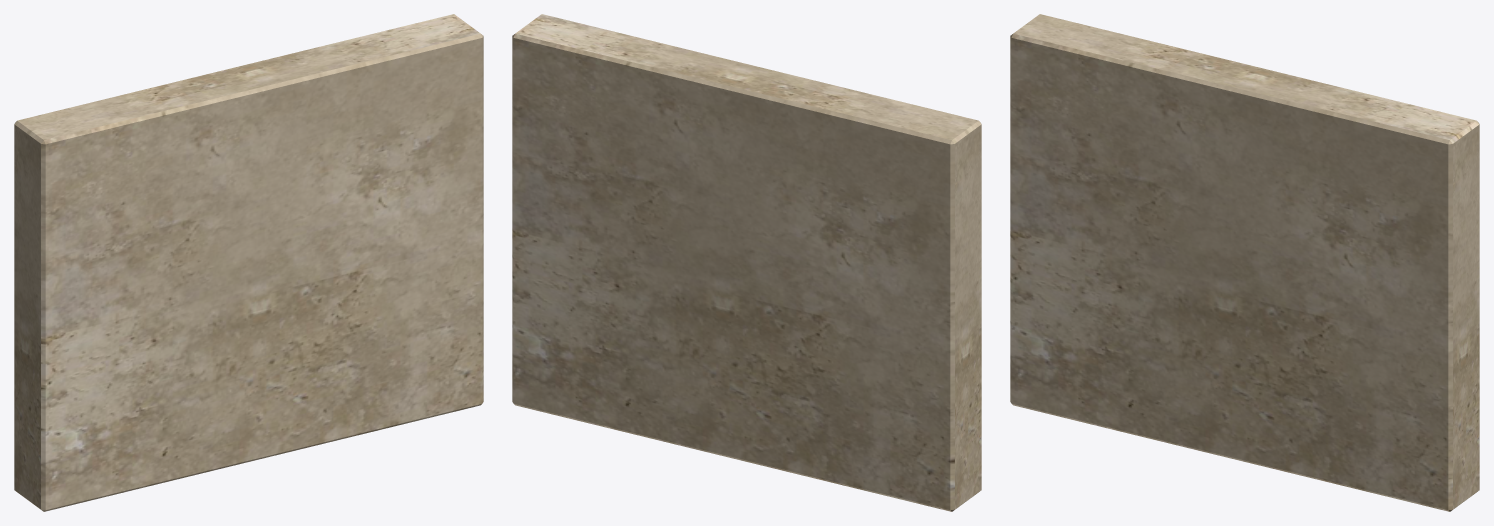
The model's file is thin_wall_small.FBX.
3 views of the same model, side by side, from view 1: azimuth 30°, elevation 25°; view 2: azimuth 150°, elevation 25°; view 3: azimuth 330°, elevation 25° (orthographic).
Parts seen in each view (by area): view 1: Box309; view 2: Box309; view 3: Box309.
Boxes of the visible parts, left/top/right/bottom form: Box309: left=14, top=14, right=483, bottom=511; Box309: left=512, top=14, right=981, bottom=511; Box309: left=1010, top=14, right=1479, bottom=511.
Bounding box in the file's own units: 155 × 124 × 18.25.
